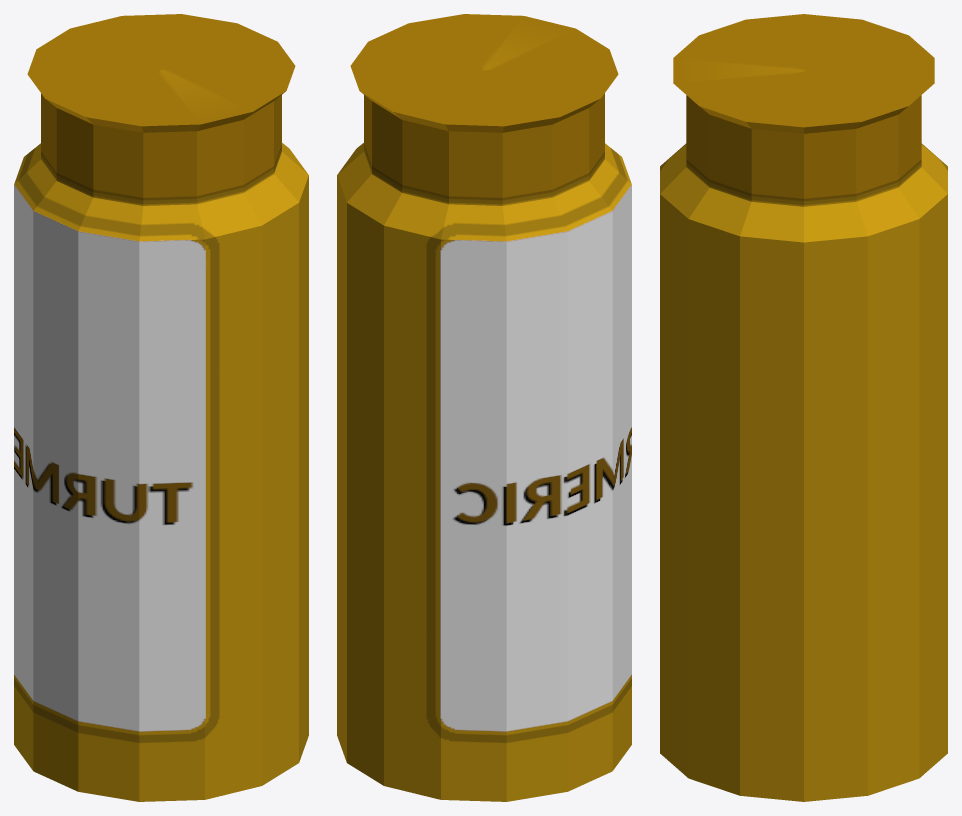
File: spice_turmeric.obj
3 renders of one model, left to right at view 1: azimuth 30°, elevation 25°; view 2: azimuth 150°, elevation 25°; view 3: azimuth 270°, elevation 25°, orthographic.
Parts seen in each view (by area): view 1: spice_turmeric; view 2: spice_turmeric; view 3: spice_turmeric.
Part boxes in pixels (<box>): spice_turmeric: <box>14,14,308,801</box>; spice_turmeric: <box>337,14,631,801</box>; spice_turmeric: <box>660,14,947,801</box>.
Size of the model in its own units: 0.044 by 0.11 by 0.0429.
1 material, 1 textured.
